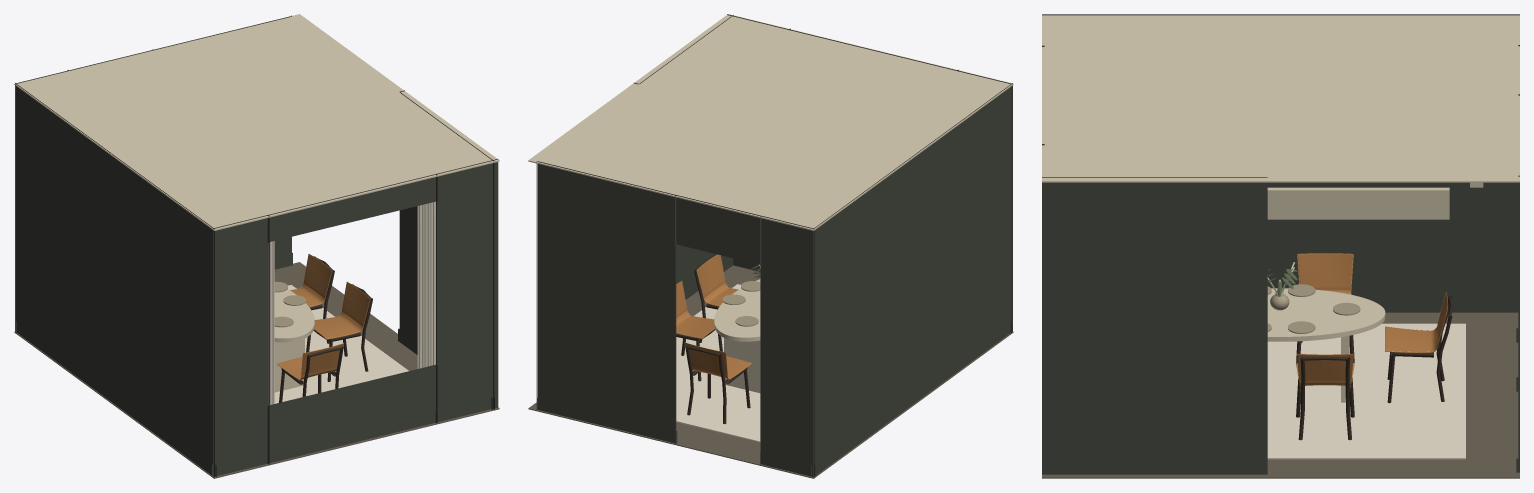
File: dining-3.glb
3 renders of one model, left to right at view 1: azimuth 30°, elevation 25°; view 2: azimuth 150°, elevation 25°; view 3: azimuth 270°, elevation 25°, orthographic. The views are drawn at different scales.
Visible parts, largest first — view 1: DESIGN | dining removable wall finish, DESIGN | dining ceiling finish, DESIGN | dining floor finish, DESIGN | Dining ground, DESIGN | Dining linen edge.001, DESIGN | Required Isadora dining chair 3, DESIGN | Required Isadora dining chair 5, DESIGN | Dining table top, DESIGN | Required Isadora dining chair 4, DESIGN | Dining linen edge, DESIGN | Dining table trestle; view 2: DESIGN | dining removable wall finish, DESIGN | dining ceiling finish, DESIGN | Dining ground, DESIGN | dining floor finish, DESIGN | Required Isadora dining chair 6, DESIGN | Dining table top, DESIGN | Required Isadora dining chair 3, DESIGN | Required Isadora dining chair 4, DESIGN | Dining table trestle.001; view 3: DESIGN | dining removable wall finish, DESIGN | dining ceiling finish, DESIGN | Dining ground, DESIGN | dining floor finish, DESIGN | Dining sculptural timber wall band, DESIGN | Dining table top, DESIGN | Required Isadora dining chair 6, DESIGN | Required Isadora dining chair 4, DESIGN | Required Isadora dining chair 2.
Part boxes in pixels (x1,y1,x2,y2): DESIGN | dining removable wall finish: (15,15,498,477); DESIGN | dining ceiling finish: (14,14,499,230); DESIGN | dining floor finish: (14,262,499,478); DESIGN | Dining ground: (274,285,408,403); DESIGN | Dining linen edge.001: (417,201,435,368); DESIGN | Required Isadora dining chair 3: (306,281,372,381); DESIGN | Required Isadora dining chair 5: (277,343,343,402); DESIGN | Dining table top: (274,289,314,342); DESIGN | Required Isadora dining chair 4: (290,254,334,343); DESIGN | Dining linen edge: (268,241,274,405); DESIGN | Dining table trestle: (274,338,304,392); DESIGN | dining removable wall finish: (536,14,1012,477); DESIGN | dining ceiling finish: (528,14,1013,230); DESIGN | Dining ground: (676,284,760,442); DESIGN | dining floor finish: (528,265,1013,478); DESIGN | Required Isadora dining chair 6: (684,342,751,423); DESIGN | Dining table top: (714,279,760,341); DESIGN | Required Isadora dining chair 3: (694,254,738,342); DESIGN | Required Isadora dining chair 4: (676,281,722,381); DESIGN | Dining table trestle.001: (724,338,760,392); DESIGN | dining removable wall finish: (1042,14,1519,474); DESIGN | dining ceiling finish: (1042,15,1519,182); DESIGN | Dining ground: (1267,323,1465,459); DESIGN | dining floor finish: (1042,312,1519,478); DESIGN | Dining sculptural timber wall band: (1267,187,1449,219); DESIGN | Dining table top: (1267,288,1385,341); DESIGN | Required Isadora dining chair 6: (1385,292,1453,403); DESIGN | Required Isadora dining chair 4: (1296,353,1354,440); DESIGN | Required Isadora dining chair 2: (1296,252,1354,364).
Size of the model in its own units: 3.28 by 2.74 by 3.98.
